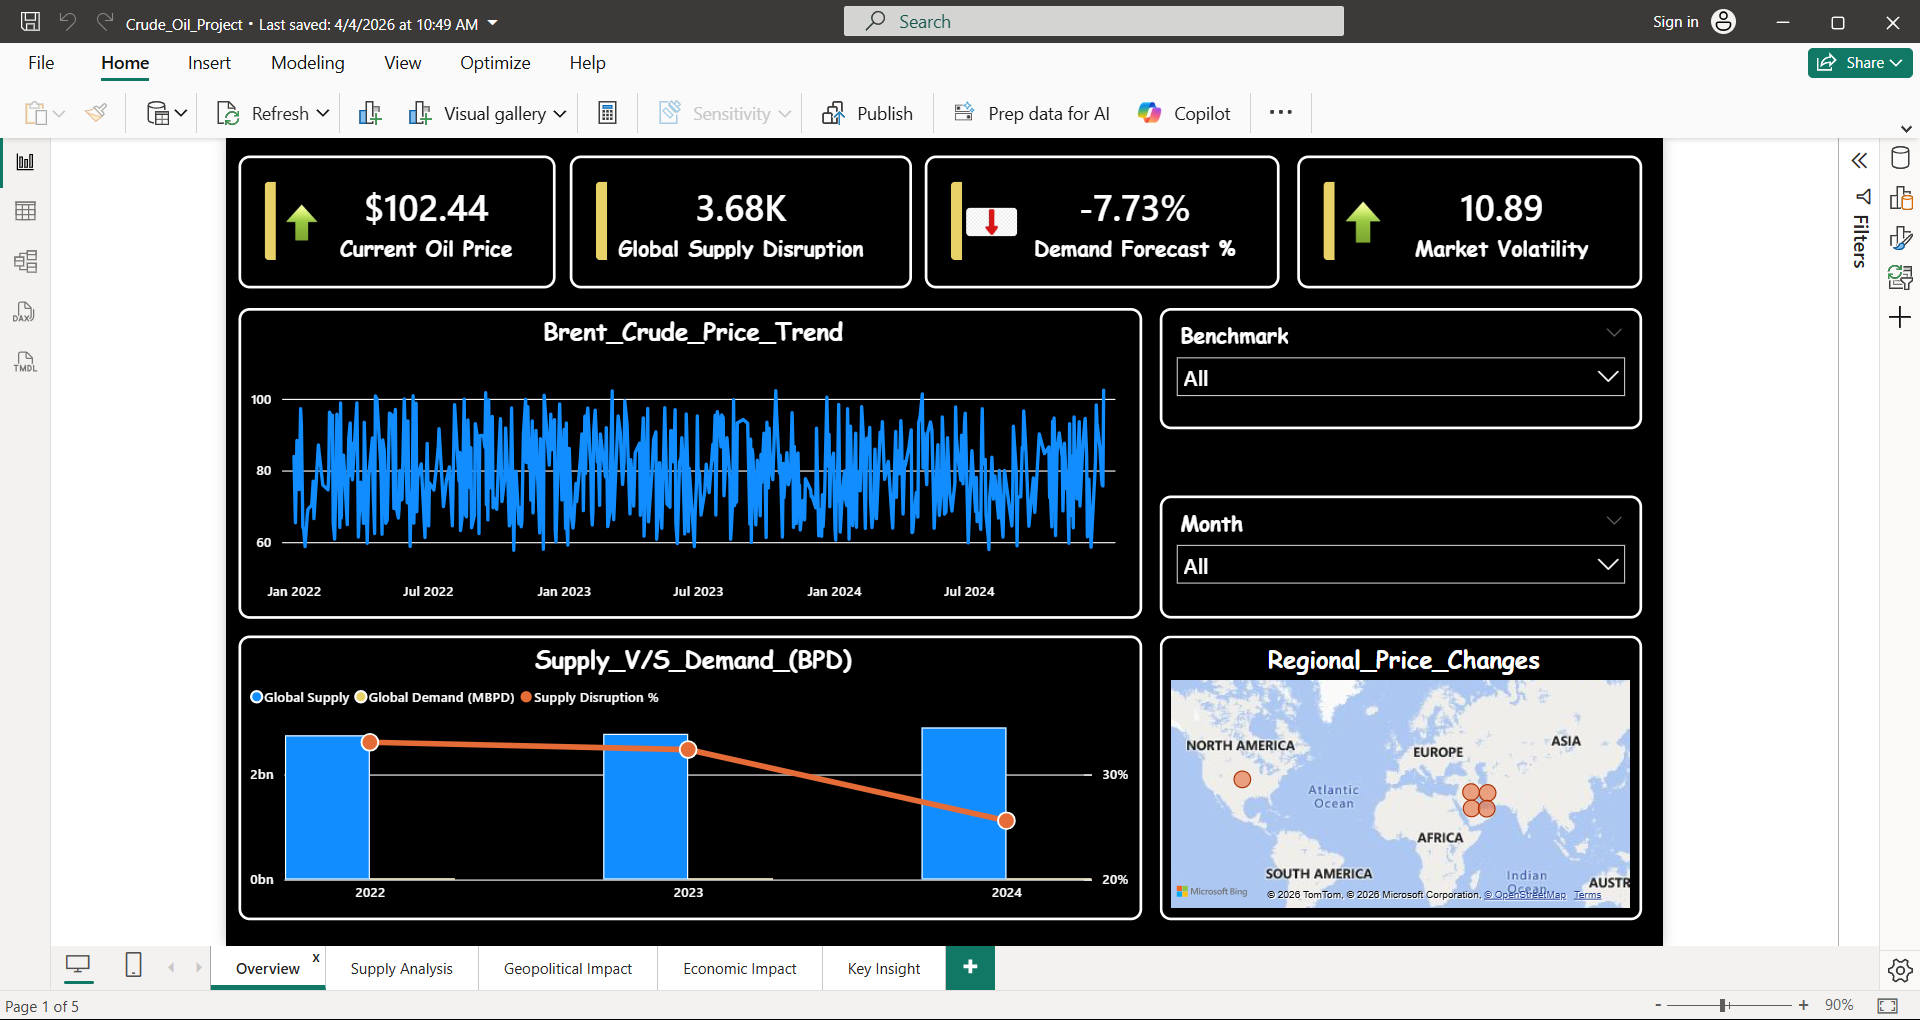

Layout of this report page (visuals, bound fields, positions):
{"tool":"powerbi","page":{"name":"Overview","canvas":[1280,720],"ordinal":0},"visuals":[{"type":"lineChart","title":"Brent_Crude_Price_Trend","fields":{"Category":["Date_Table.Date"],"Y":["Measures_F.Brent Price"]},"box":[11.5,151.5,805.1,277],"z":0},{"type":"lineClusteredColumnComboChart","title":"Supply_V/S_Demand_(BPD)","fields":{"Y":["Measures_F.Global Supply","Measures_F.Global Demand (MBPD)"],"Y2":["Measures_F.Supply Disruption %"],"Category":["Date_Table.Year"]},"box":[11.5,442.9,805.1,253.9],"z":1000},{"type":"map","title":"Regional_Price_Changes","fields":{"Category":["Supply_Demand.Country"],"Size":["Sum(Oil_Prices.Price Change %)"]},"box":[831,442.9,429.9,253.9],"z":2000},{"type":"cardVisual","fields":{"Data":["Measures_F.Current Oil Price"]},"box":[11.5,15.9,282.8,118.3],"z":3000},{"type":"cardVisual","fields":{"Data":["Supply_Demand.Global Supply Disruption (MBPD)"]},"box":[305.9,15.9,304.4,118.3],"z":4000},{"type":"cardVisual","fields":{"Data":["Measures_F.Demand Forecast %"]},"box":[621.8,15.9,316,118.3],"z":5000},{"type":"cardVisual","fields":{"Data":["Measures_F.Market Volatility (30D)"]},"box":[953.7,15.9,307.3,118.3],"z":6000},{"type":"slicer","fields":{"Values":["Oil_Prices.Benchmark"]},"box":[831,151.5,429.9,108.2],"z":7000},{"type":"slicer","fields":{"Values":["Date_Table.Month"]},"box":[831,318.9,429.9,109.6],"z":8000}]}

Visuals, with their boxes on the page's 1280x720 design canvas (x1, y1, x2, y2). These are canvas units, not pixel positions in the 1920x1020 screenshot, which may show the page scaled, cropped or inside an application window:
"Brent_Crude_Price_Trend" lineChart: (12, 152, 817, 428)
"Supply_V/S_Demand_(BPD)" lineClusteredColumnComboChart: (12, 443, 817, 697)
"Regional_Price_Changes" map: (831, 443, 1261, 697)
cardVisual - Measures_F.Current Oil Price: (12, 16, 294, 134)
cardVisual - Supply_Demand.Global Supply Disruption (MBPD): (306, 16, 610, 134)
cardVisual - Measures_F.Demand Forecast %: (622, 16, 938, 134)
cardVisual - Measures_F.Market Volatility (30D): (954, 16, 1261, 134)
slicer - Oil_Prices.Benchmark: (831, 152, 1261, 260)
slicer - Date_Table.Month: (831, 319, 1261, 428)
